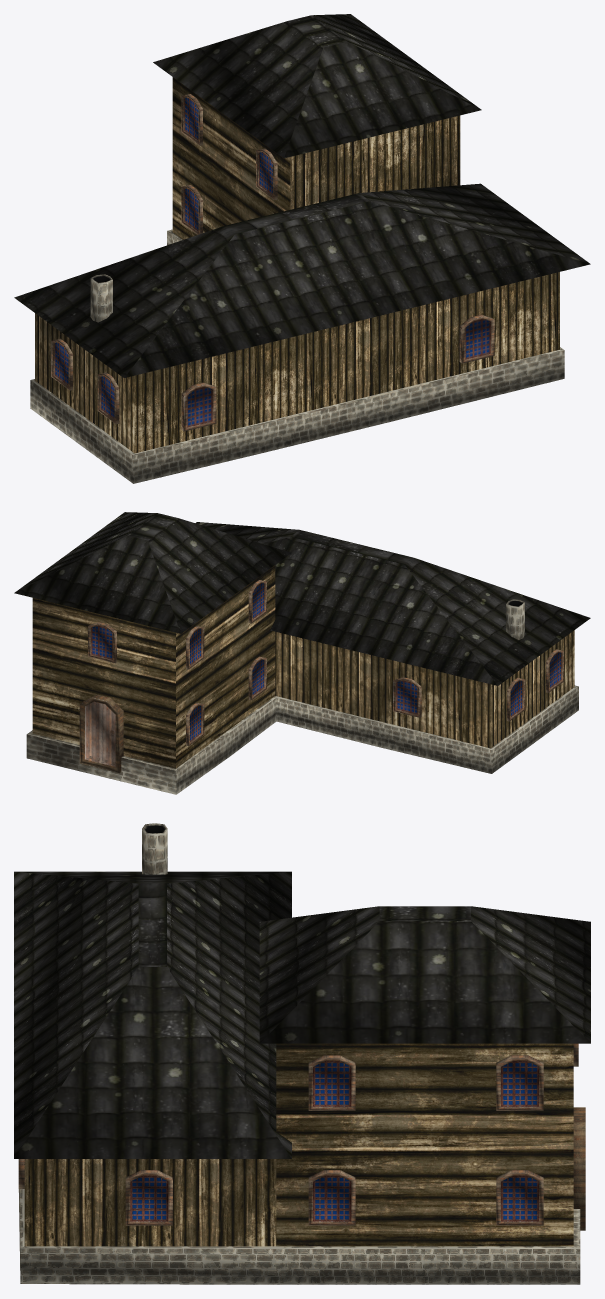
The model's file is building-4.glb.
3 renders of one model, top to bottom at view 1: azimuth 30°, elevation 25°; view 2: azimuth 150°, elevation 25°; view 3: azimuth 270°, elevation 25°, orthographic. The views are drawn at different scales.
Visible parts, largest first — view 1: Building_4; view 2: Building_4; view 3: Building_4.
Boxes of the visible parts, x1=… form: Building_4: x1=14, y1=14, x2=590, y2=483; Building_4: x1=14, y1=512, x2=590, y2=794; Building_4: x1=14, y1=823, x2=590, y2=1284.
Size of the model in its own units: 10.98 by 5.64 by 9.31.
3 materials, 3 textured.
